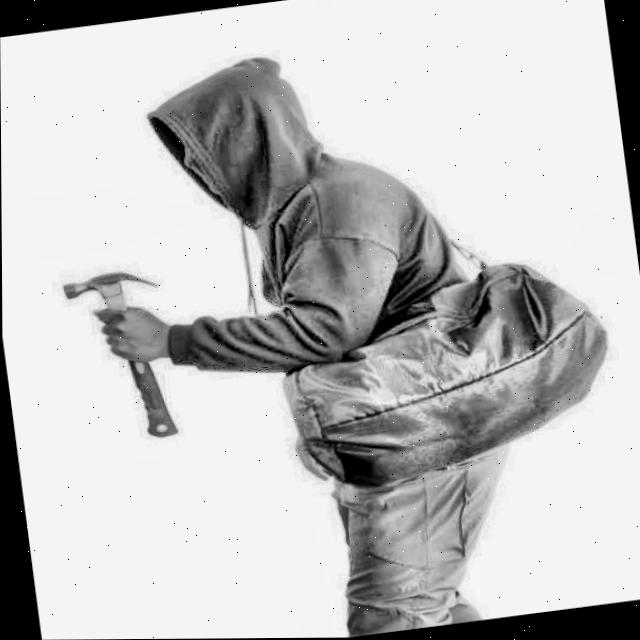robbery: (89, 49, 601, 636)
